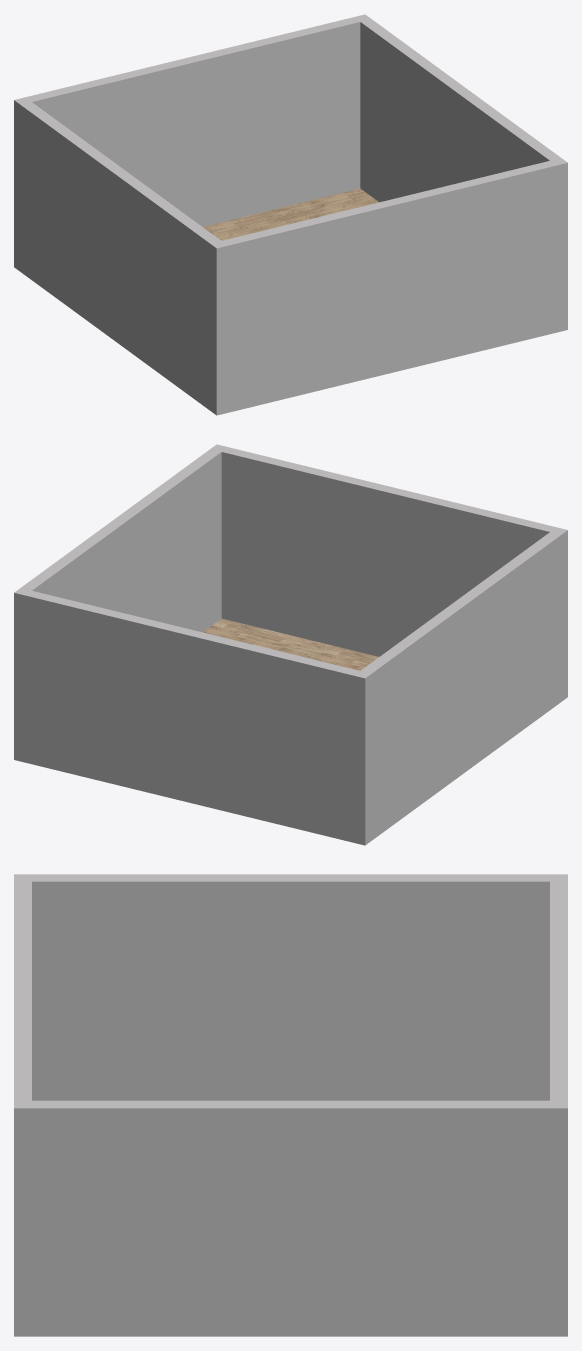
Rendered from house.glb.
3 renders of one model, top to bottom at view 1: azimuth 30°, elevation 25°; view 2: azimuth 150°, elevation 25°; view 3: azimuth 270°, elevation 25°, orthographic. The views are drawn at different scales.
Visible parts, largest first — view 1: container3d, floor; view 2: container3d, floor; view 3: container3d.
Part boxes in pixels (bbox=[...]): container3d: bbox=[14, 14, 567, 415]; floor: bbox=[203, 188, 378, 240]; container3d: bbox=[14, 444, 567, 845]; floor: bbox=[203, 618, 378, 670]; container3d: bbox=[14, 874, 567, 1336].
Size of the model in its own units: 6.2 by 2.82 by 6.2.
2 materials, 1 textured.
